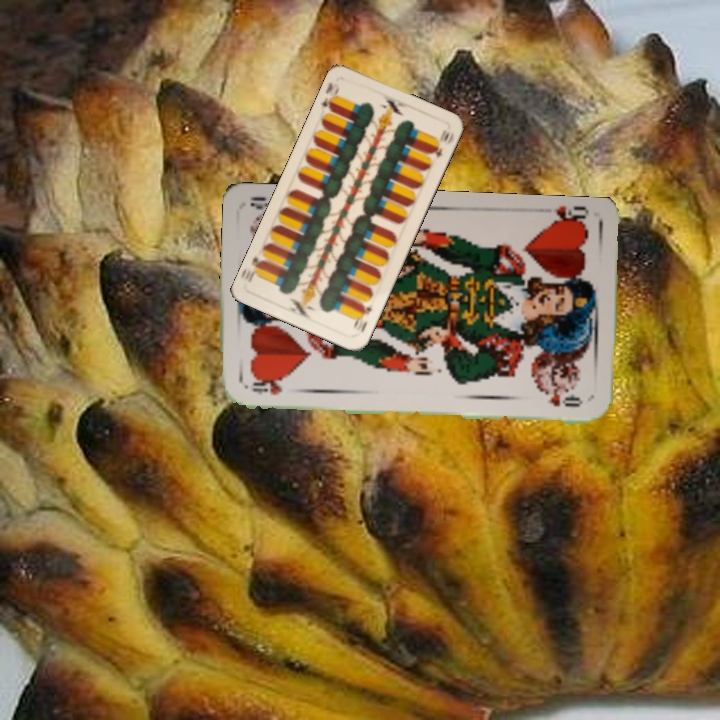E10: (349, 299, 374, 336), (317, 78, 342, 114)
HO: (542, 202, 592, 230), (248, 376, 286, 398)
